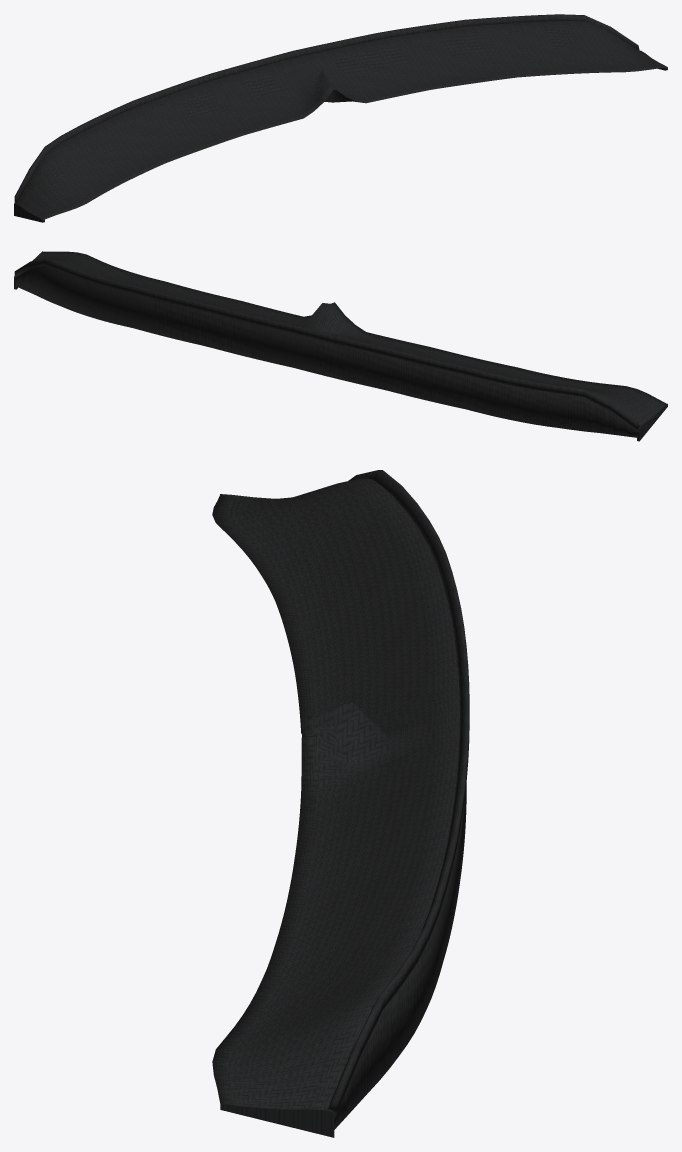
File: WB14_widebody_ducktail_carbon.glb
The picture shows the model from 3 angles, top to bottom: view 1: azimuth 30°, elevation 25°; view 2: azimuth 150°, elevation 25°; view 3: azimuth 270°, elevation 25°; orthographic projection. The views are drawn at different scales.
Parts seen in each view (by area): view 1: MOD_ND_WB14_spoiler, MOD_ND_WB14_gurney; view 2: MOD_ND_WB14_spoiler, MOD_ND_WB14_gurney, MOD_ND_WB14_cap_R; view 3: MOD_ND_WB14_spoiler, MOD_ND_WB14_gurney, MOD_ND_WB14_cap_L.
Part boxes in pixels (x1,y1,x2,y2): MOD_ND_WB14_spoiler: [17, 21, 666, 219]; MOD_ND_WB14_gurney: [14, 14, 639, 202]; MOD_ND_WB14_spoiler: [15, 251, 666, 437]; MOD_ND_WB14_gurney: [14, 258, 639, 429]; MOD_ND_WB14_cap_R: [637, 403, 667, 441]; MOD_ND_WB14_spoiler: [212, 478, 466, 1129]; MOD_ND_WB14_gurney: [328, 470, 469, 1113]; MOD_ND_WB14_cap_L: [220, 1103, 334, 1137].
Size of the model in its own units: 0.964 by 0.0966 by 0.1718.
1 material, 1 textured.
